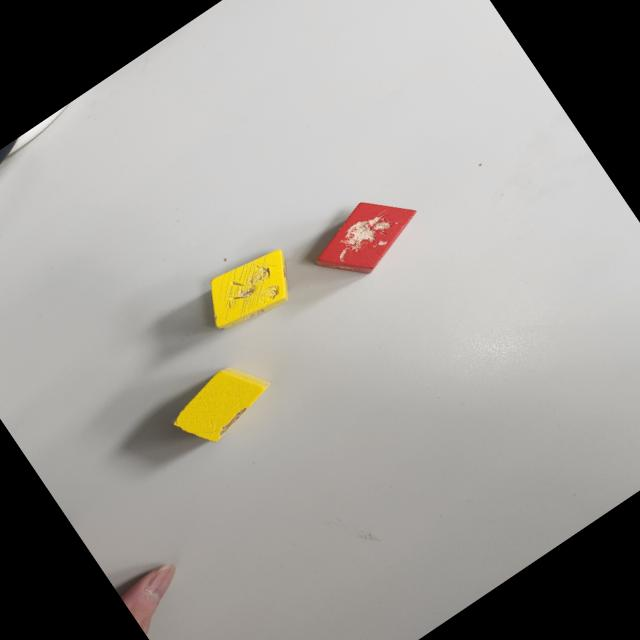broken: (301, 178, 432, 296), (163, 350, 282, 456), (192, 237, 308, 343)
